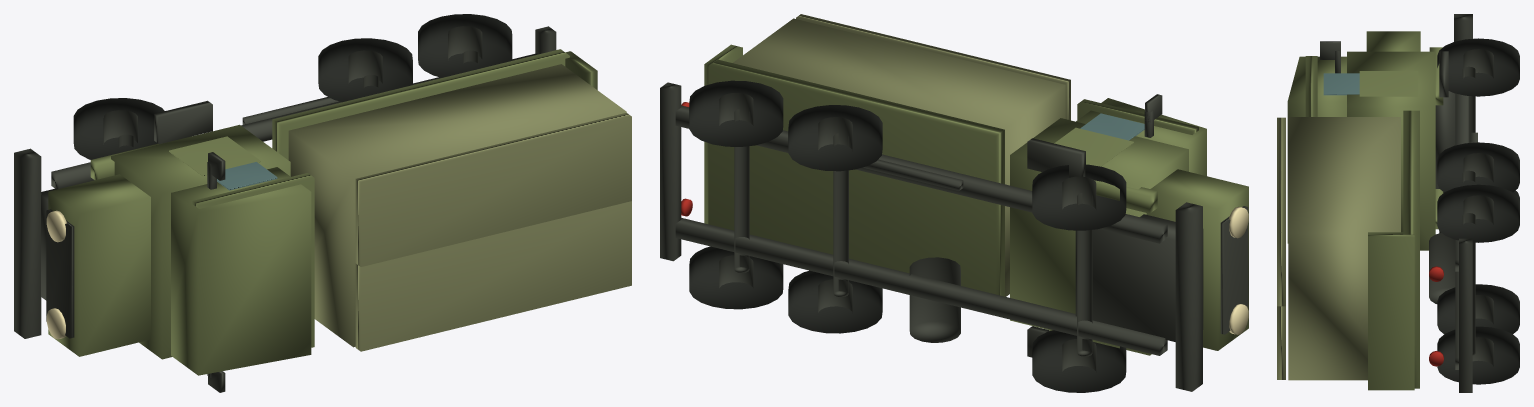
Rendered from cargo-truck.glb.
The picture shows the model from 3 angles, left to right: view 1: azimuth 30°, elevation 25°; view 2: azimuth 150°, elevation 25°; view 3: azimuth 270°, elevation 25°; orthographic projection. The views are drawn at different scales.
Parts seen in each view (by area): view 1: Canvas body, Canvas roof right, Cab sloped upper, Canvas roof left, Hood, Wheel (×3), Cab lower, Front bumper, Cargo bed, Hub (×3), Grille, Cab roof (+9 smaller); view 2: Cargo bed, Wheel (×6), Canvas body, Main chassis, Cab lower, Engine underbody, Hood, Hub (×6), Axle (×3), Front bumper, Main chassis R, Rear bumper (+12 smaller); view 3: Canvas body, Wheel (×5), Tailgate, Cab lower, Cargo bed, Hub (×5), Cab sloped upper, Rear bumper, Canvas roof right, Door seam, Fuel tank, Engine underbody (+11 smaller).
Part boxes in pixels (x1,y1,x2,y2): Canvas body: (288,64,626,347); Canvas roof right: (355,112,631,266); Cab sloped upper: (171,167,311,375); Canvas roof left: (355,201,631,351); Hood: (48,174,150,356); Wheel (×3): (73,14,512,159); Cab lower: (111,124,290,359); Front bumper: (14,148,41,338); Cargo bed: (272,49,569,159); Hub (×3): (103,26,482,144); Grille: (46,209,74,338); Cab roof: (192,173,314,347); Cargo bed: (708,59,1004,296); Wheel (×6): (689,80,1126,392); Canvas body: (733,18,1065,296); Main chassis: (675,218,1167,355); Cab lower: (1010,118,1188,329); Engine underbody: (1075,214,1203,341); Hood: (1146,169,1248,350); Hub (×6): (719,93,1096,372); Axle (×3): (734,109,1092,356); Front bumper: (1175,202,1202,391); Main chassis R: (675,105,1167,243); Rear bumper: (660,82,681,261); Canvas body: (1288,117,1400,380); Wheel (×5): (1437,38,1519,384); Tailgate: (1368,232,1414,390); Cab lower: (1347,51,1435,250); Cargo bed: (1403,110,1419,388); Hub (×5): (1463,49,1493,366); Cab sloped upper: (1287,56,1346,243); Rear bumper: (1459,238,1472,392); Canvas roof right: (1277,117,1285,306); Door seam: (1359,71,1418,96); Fuel tank: (1429,233,1455,303); Engine underbody: (1435,91,1455,188).
Bounding box in the file's own units: 7.2 × 2.95 × 3.23.
